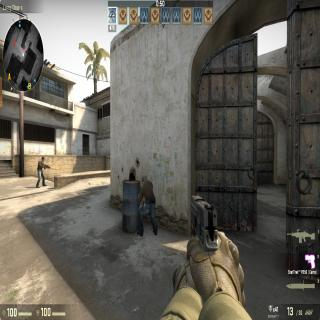T-Body: (138, 174, 156, 235), (37, 154, 45, 187)
T-Head: (140, 174, 148, 186), (40, 156, 45, 163)
